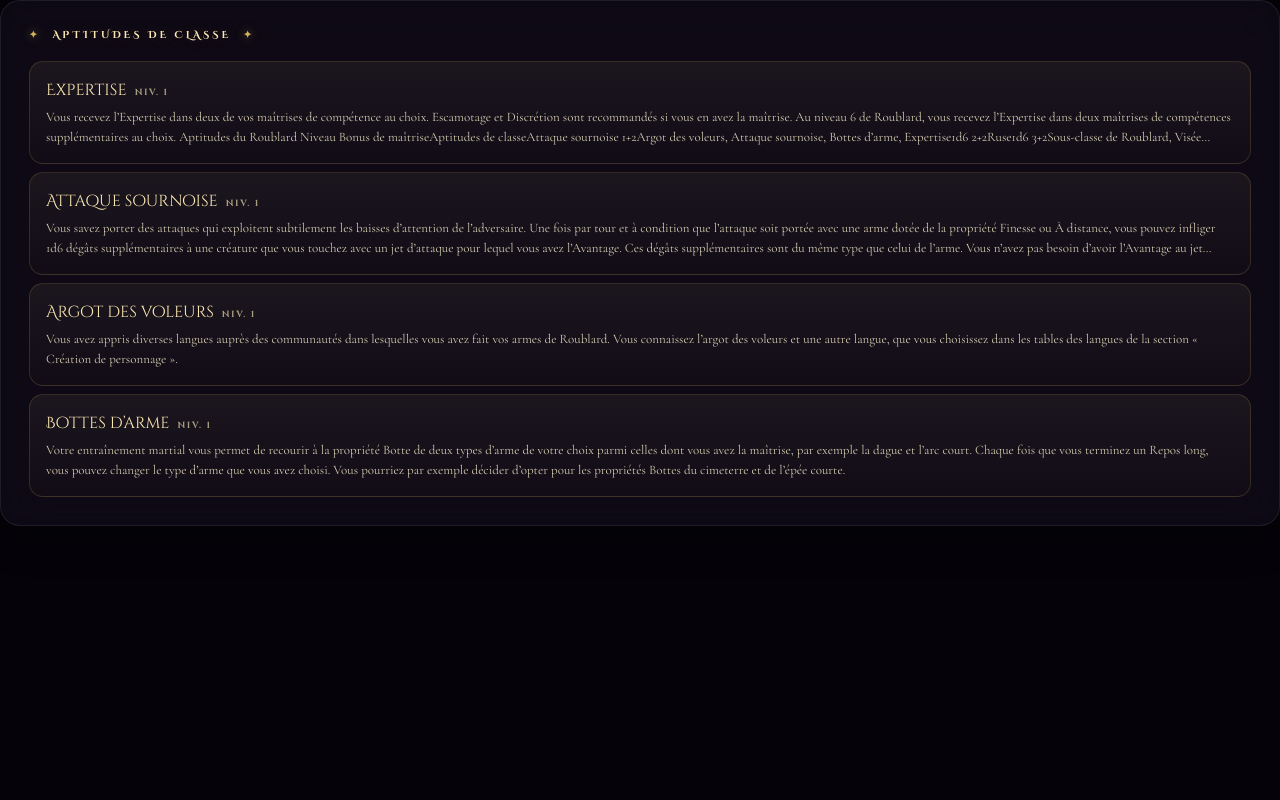
<ClassFeaturesCard> › tap « Attaque sournoise » → modale avec la description exacte du bundle
This screenshot has width=1280, height=800.
Click the button with aria-label "Aptitude : Attaque sournoise".
click(640, 224)  # box [29, 172, 1251, 275]
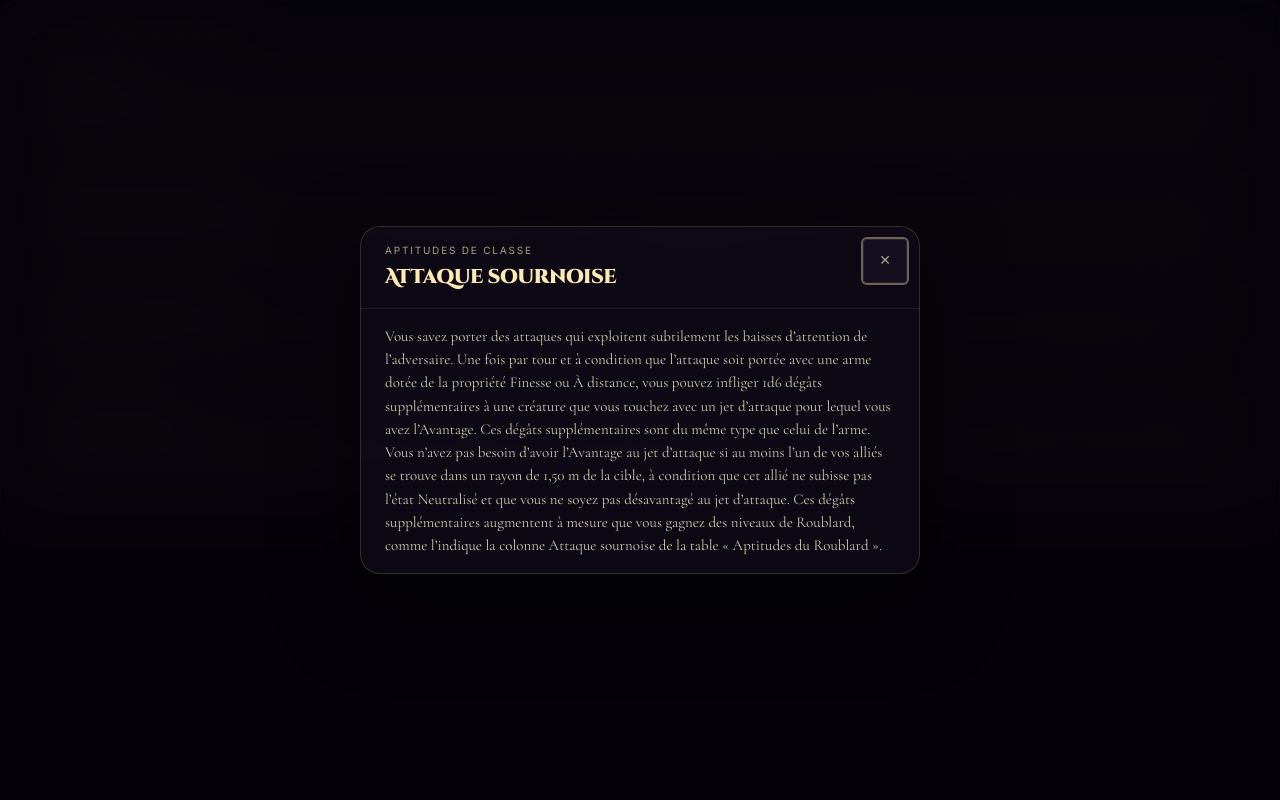
expect the 1st text "Vous savez porter des attaques qui exploitent subtilement les baisses d’attention de l’adversaire. Une fois par tour et " is shown: met, box [46, 220, 1230, 294]
expect the dialog is shown: met
